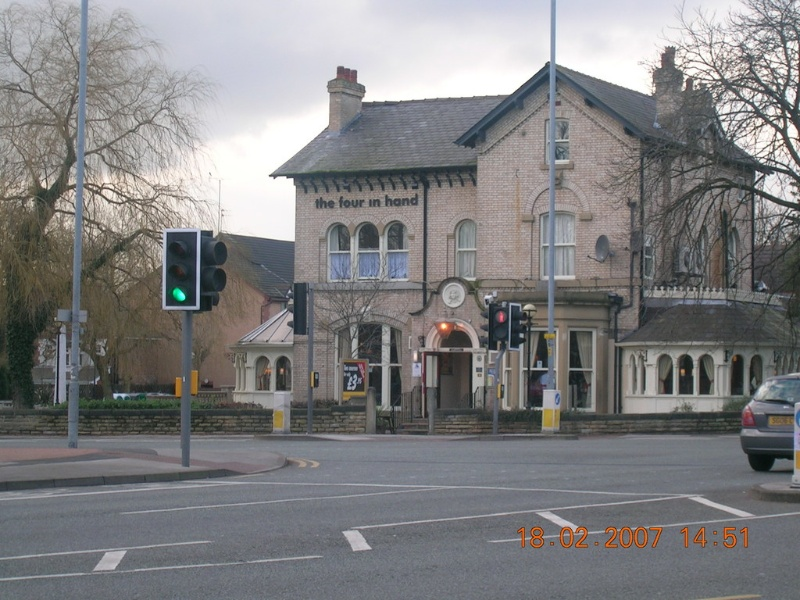green_light: (165, 283, 192, 310)
